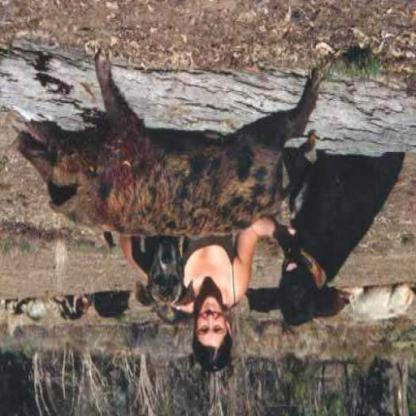boar: (12, 75, 363, 240)
